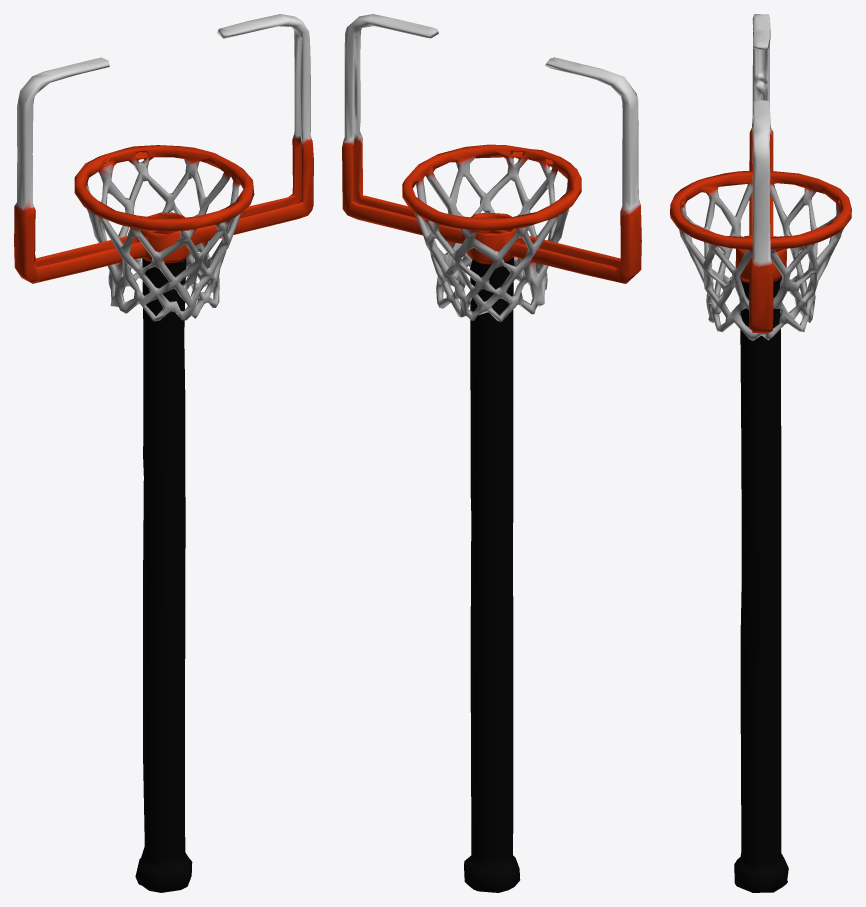
File: gen3d-basketball-hoop-lod0.glb
The picture shows the model from 3 angles, left to right: view 1: azimuth 30°, elevation 25°; view 2: azimuth 150°, elevation 25°; view 3: azimuth 270°, elevation 25°; orthographic projection. The views are drawn at different scales.
Visible parts, largest first — view 1: part_0; view 2: part_0; view 3: part_0.
Part boxes in pixels (left/top/right/bottom): part_0: left=14, top=14, right=313, bottom=892; part_0: left=342, top=14, right=641, bottom=892; part_0: left=670, top=14, right=851, bottom=892.
Bounding box in the file's own units: 0.3634 × 0.9999 × 0.2033.
